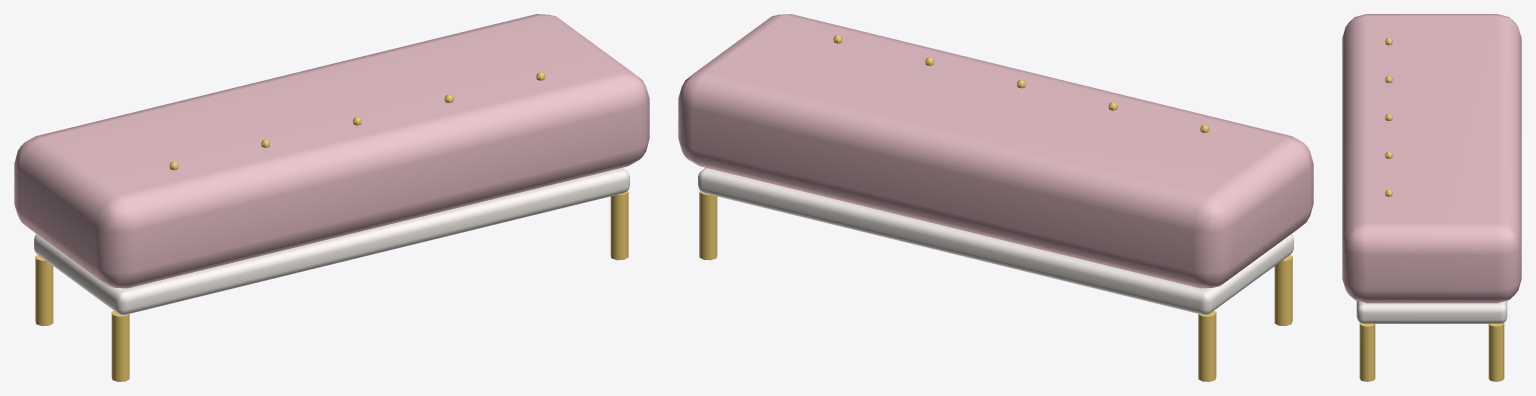
The model's file is bed_bench.glb.
3 renders of one model, left to right at view 1: azimuth 30°, elevation 25°; view 2: azimuth 150°, elevation 25°; view 3: azimuth 270°, elevation 25°, orthographic. The views are drawn at different scales.
Parts seen in each view (by area): view 1: bed_bench; view 2: bed_bench; view 3: bed_bench.
Boxes of the visible parts, box(x1,y1,x2,y2) form: bed_bench: box(14, 14, 649, 381); bed_bench: box(678, 14, 1313, 381); bed_bench: box(1342, 14, 1521, 381).
Size of the model in its own units: 1.5 by 0.497 by 0.5.
